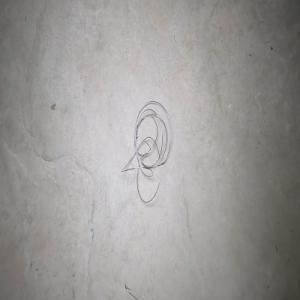Wire: (121, 100, 170, 202)
